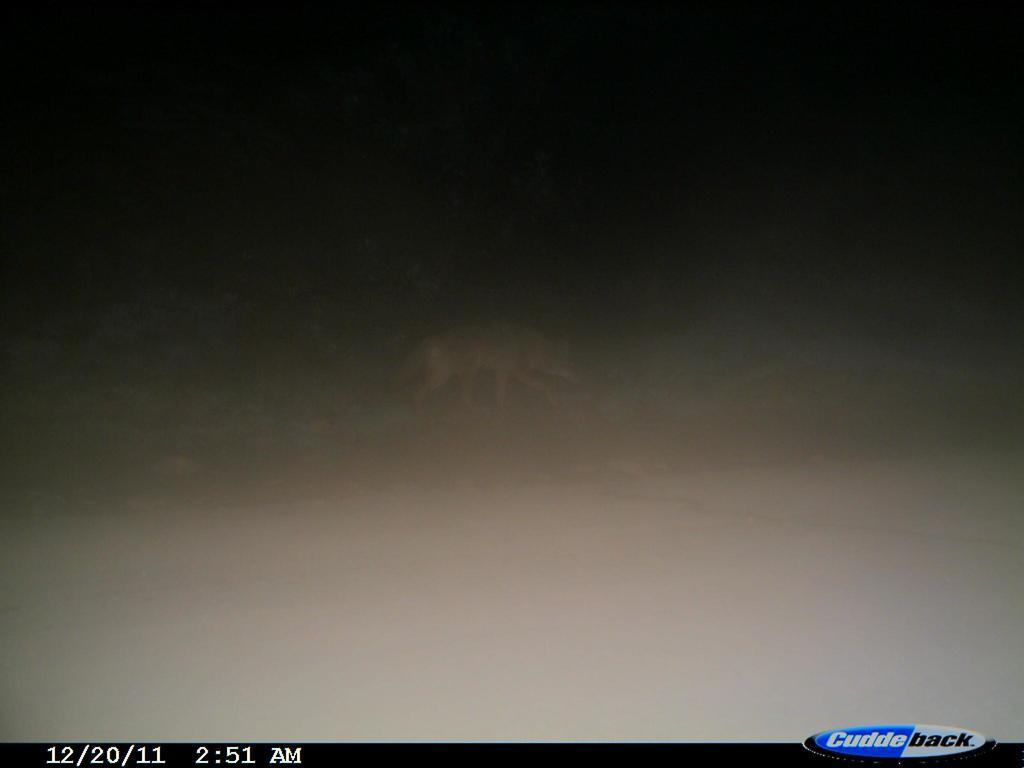coyote: (377, 300, 588, 428)
